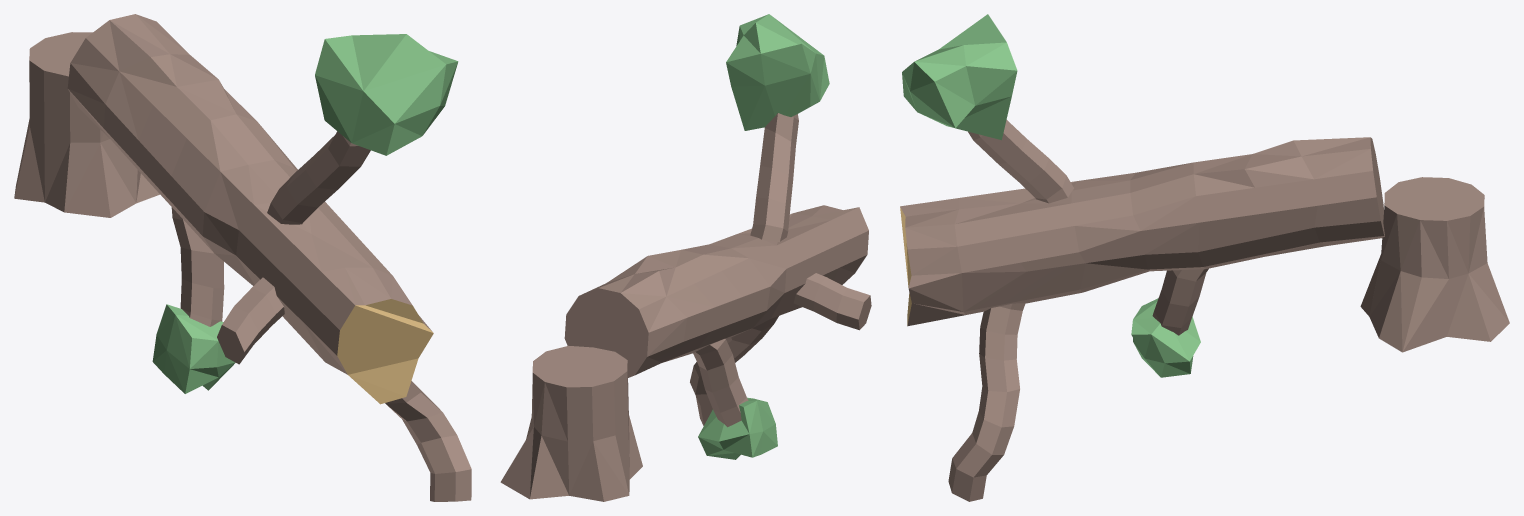
The model's file is tree-fell.fbx.
3 renders of one model, left to right at view 1: azimuth 30°, elevation 25°; view 2: azimuth 150°, elevation 25°; view 3: azimuth 270°, elevation 25°, orthographic. The views are drawn at different scales.
Visible parts, largest first — view 1: tree; view 2: tree; view 3: tree.
Boxes of the visible parts, x1,y1,x2,y2 form: tree: (14, 14, 471, 501); tree: (500, 14, 871, 501); tree: (900, 14, 1509, 501).
Size of the model in its own units: 450 by 942 by 1201.
